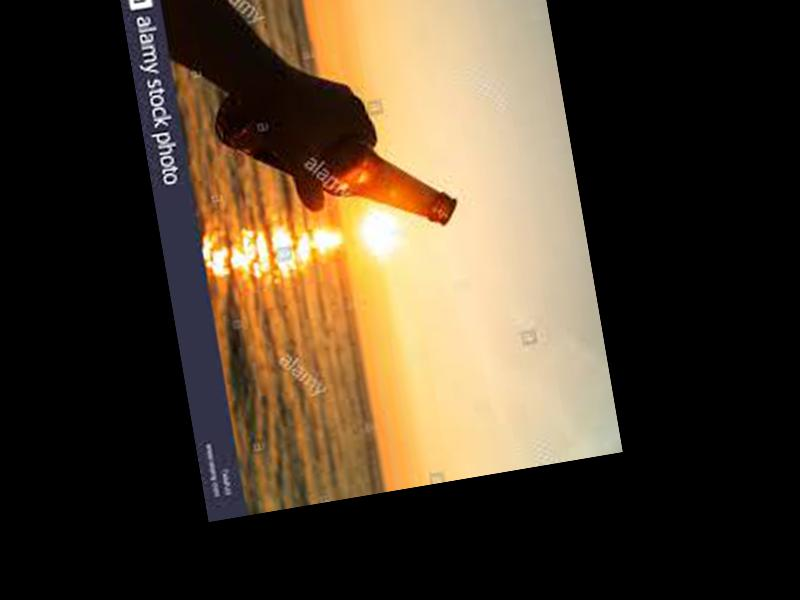Beer: (208, 54, 463, 259)
